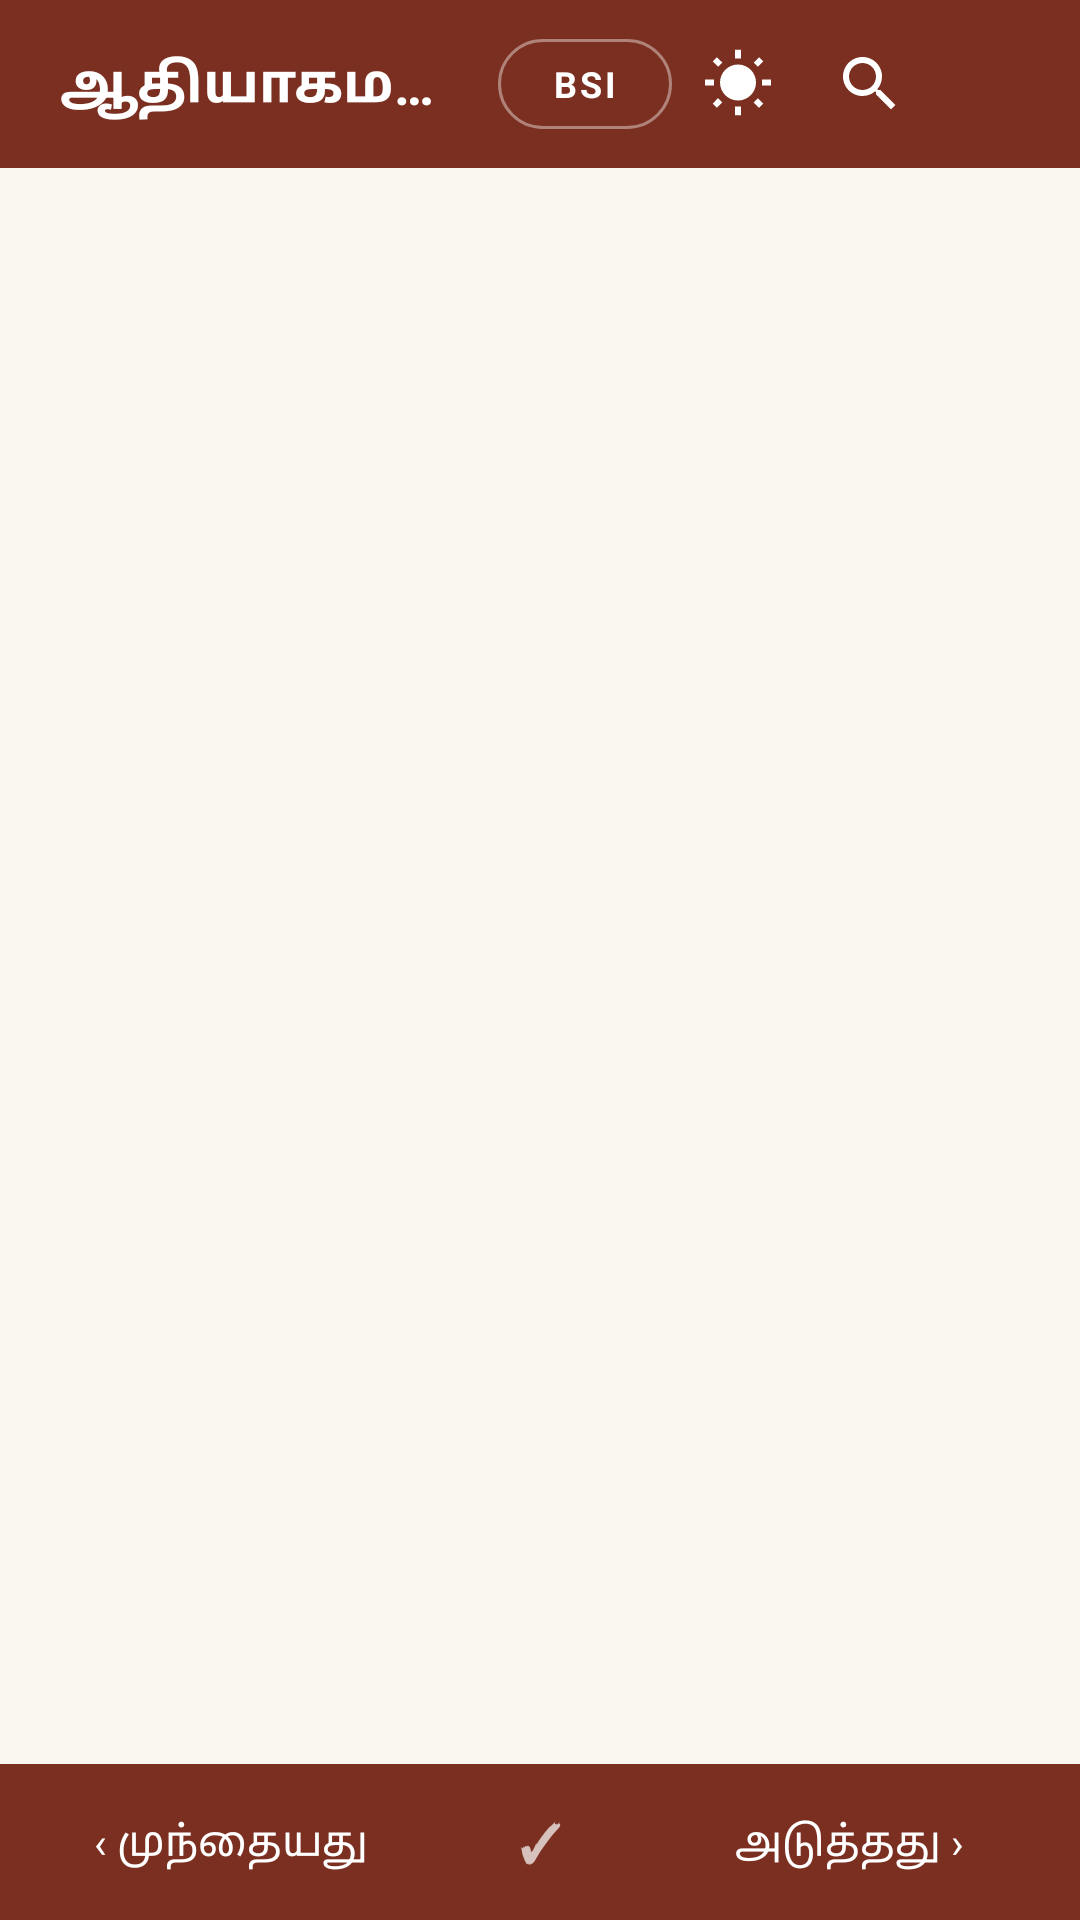

Screen size 1080x1920. Icon name, then its box in pixels as region(x1, y1, x2, y2):
பைபிளில் தேடுங்கள்…: region(843, 57, 895, 109)
